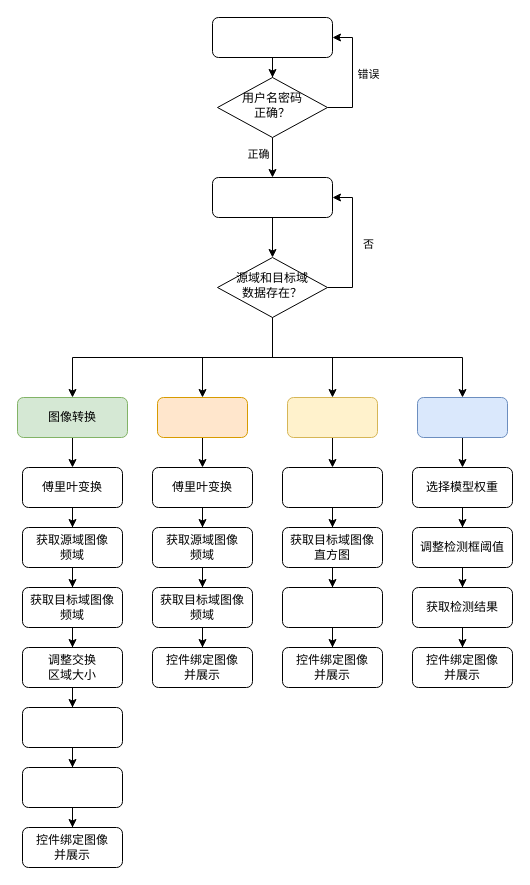
This 530x885 diagram has some shape labels left out. The box of each missing label's shape, as (x1, y1, x2, y2) in pixels:
交换源域和目标域低频域部分信息: (22, 706, 122, 748)
图像分布可视化: (286, 396, 378, 438)
检测结果可视化: (416, 396, 508, 438)
登录: (212, 16, 332, 58)
获取源域图像 直方图: (282, 466, 382, 508)
获取转换后图像 直方图: (282, 586, 382, 628)
获取转换后图像 频域: (22, 766, 122, 808)
输入源域数据 与目标域数据: (212, 176, 332, 218)
频域可视化: (156, 396, 248, 438)
